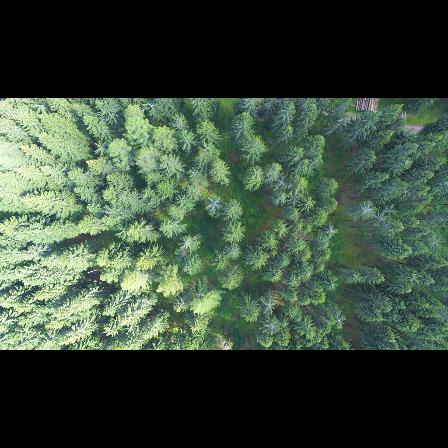Sick: (202, 194, 223, 215), (260, 293, 278, 315), (427, 233, 447, 251), (285, 189, 303, 209), (259, 317, 281, 333), (323, 220, 340, 238), (271, 172, 288, 189), (357, 202, 377, 215)
